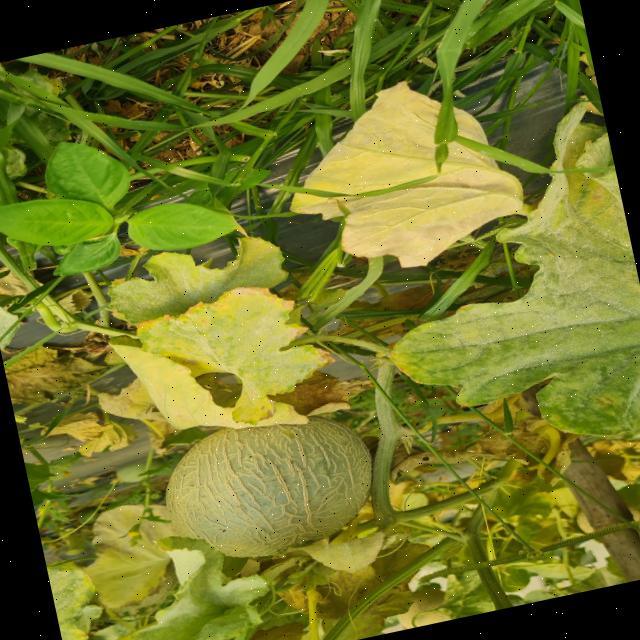melon: (164, 415, 371, 556)
